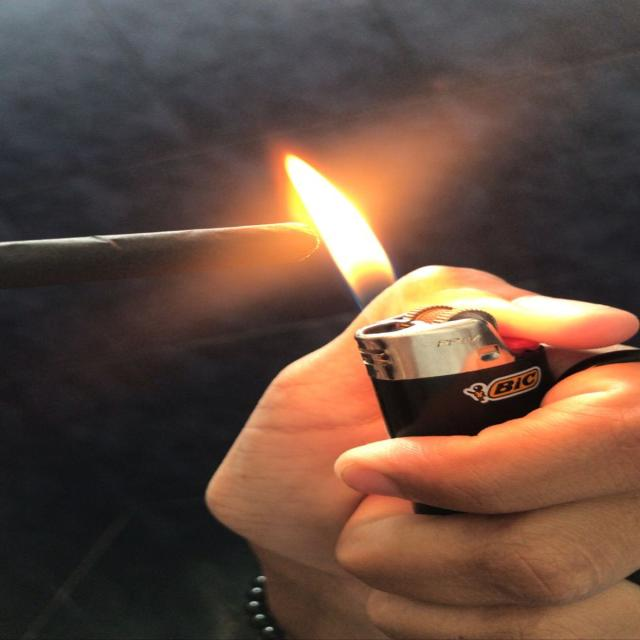fire: (281, 151, 402, 310)
